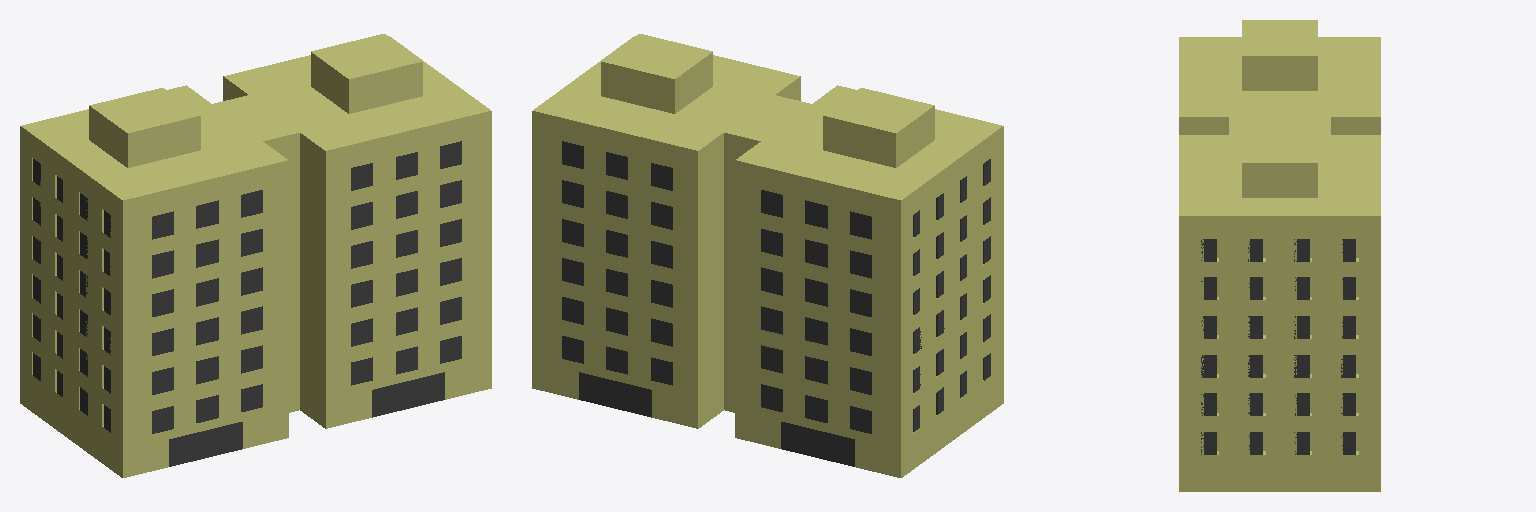
robot.urdf — building_1:
<?xml version="1.0"?> 

<!-- Copyright 2023 [author] -->

<!-- Licensed under the Apache License, Version 2.0 (the "License"); -->
<!-- you may not use this file except in compliance with the License. -->
<!-- You may obtain a copy of the License at -->

<!--     http://www.apache.org/licenses/LICENSE-2.0 -->

<!-- Unless required by applicable law or agreed to in writing, software -->
<!-- distributed under the License is distributed on an "AS IS" BASIS, -->
<!-- WITHOUT WARRANTIES OR CONDITIONS OF ANY KIND, either express or implied. -->
<!-- See the License for the specific language governing permissions and -->
<!-- limitations under the License. -->

<!-- Authors: [author], [author] -->

<robot name="building_1">
    <link name="building_1">
        <visual>
            <origin xyz="0 0 0" rpy="0 0 0" />
            <geometry>
                <mesh filename='meshes/building_1.stl' scale='0.25 0.15 0.15'/>
            </geometry>
            <material name="ochre">
                <color rgba="0.8 0.8 0.5 1"/>
            </material>
        </visual>
        <collision>
            <origin xyz="0 0 0" rpy="0 0 0" />
            <geometry>
                <mesh filename='meshes/building_1.stl' scale='0.25 0.15 0.15'/>
            </geometry>
        </collision>
        <inertial>
            <mass value="10"/>
            <inertia ixx="0.4" ixy="0.0" ixz="0.0" iyy="0.4" iyz="0.0" izz="0.2" />
        </inertial>
    </link>
    <link name="windows">
        <visual>
            <origin xyz="0 0 0" rpy="0 0 0" />
            <geometry>
                <mesh filename='meshes/building_1windows.stl' scale='0.25 0.15 0.15'/>
            </geometry>
            <material name="black">
                <color rgba="0.3 0.3 0.3 1"/>
            </material>
        </visual>
        <collision>
            <origin xyz="0 0 0" rpy="0 0 0" />
            <geometry>
                <mesh filename='meshes/building_1windows.stl' scale='0.25 0.15 0.15'/>
            </geometry>
        </collision>
        <inertial>
            <mass value="10"/>
            <inertia ixx="0.4" ixy="0.0" ixz="0.0" iyy="0.4" iyz="0.0" izz="0.2" />
        </inertial>
    </link>
    <joint name="window" type="fixed">
        <origin rpy="0 0 0" xyz="0 0 0"/>
        <parent link="building_1"/>
        <child link="windows"/>
    </joint>
    <link name="doors">
        <visual>
            <origin xyz="0 0 0" rpy="0 0 0" />
            <geometry>
                <mesh filename='meshes/building_1doors.stl' scale='0.25 0.15 0.15'/>
            </geometry>
            <material name="black">
                <color rgba="0.3 0.3 0.3 1"/>
            </material>
        </visual>
        <collision>
            <origin xyz="0 0 0" rpy="0 0 0" />
            <geometry>
                <mesh filename='meshes/building_1doors.stl' scale='0.25 0.15 0.15'/>
            </geometry>
        </collision>
        <inertial>
            <mass value="10"/>
            <inertia ixx="0.4" ixy="0.0" ixz="0.0" iyy="0.4" iyz="0.0" izz="0.2" />
        </inertial>
    </link>
    <joint name="door" type="fixed">
        <origin rpy="0 0 0" xyz="0 0 0"/>
        <parent link="building_1"/>
        <child link="doors"/>
        <axis xyz="-1 0 0"/>
    </joint>
</robot>

--- Facts derived from the render (not from the file) ---
3 views of the same robot in one strip: view 1: azimuth 30°, elevation 25°; view 2: azimuth 150°, elevation 25°; view 3: azimuth 270°, elevation 25° (orthographic).
Model building_1 with 3 links and 2 joints (2 fixed), rooted at building_1, posed every joint at zero.
Visible links, largest first — view 1: building_1, windows, doors; view 2: building_1, windows, doors; view 3: building_1, windows.
Boxes of the visible links, x1,y1,x2,y2 form: building_1: [20, 34, 491, 477]; windows: [33, 141, 461, 433]; doors: [169, 372, 444, 466]; building_1: [532, 34, 1003, 477]; windows: [562, 141, 990, 433]; doors: [579, 372, 854, 466]; building_1: [1179, 20, 1380, 491]; windows: [1201, 239, 1355, 454].
Size in the robot's own frame: 12.5 by 6 by 10.12 metres.
3 mesh visuals loaded from 3 distinct referenced files (3 binary STL).
